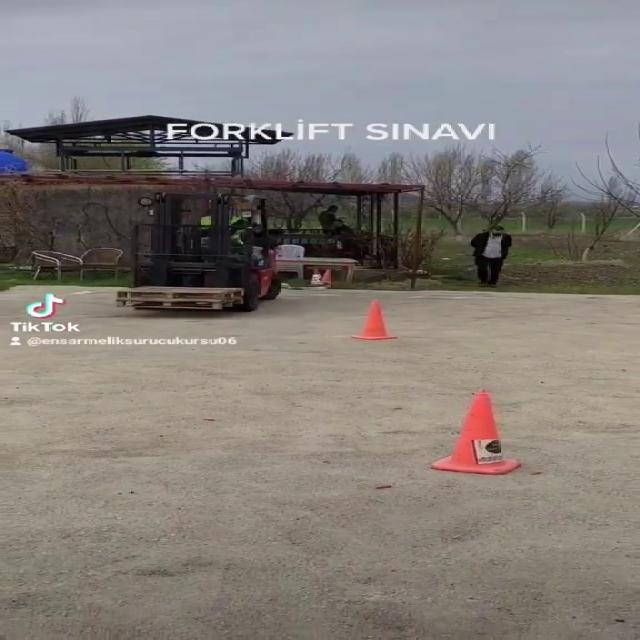ForkLift: (113, 189, 281, 314)
Human: (458, 220, 524, 302), (183, 204, 248, 252)
Pallet: (103, 275, 257, 321)
